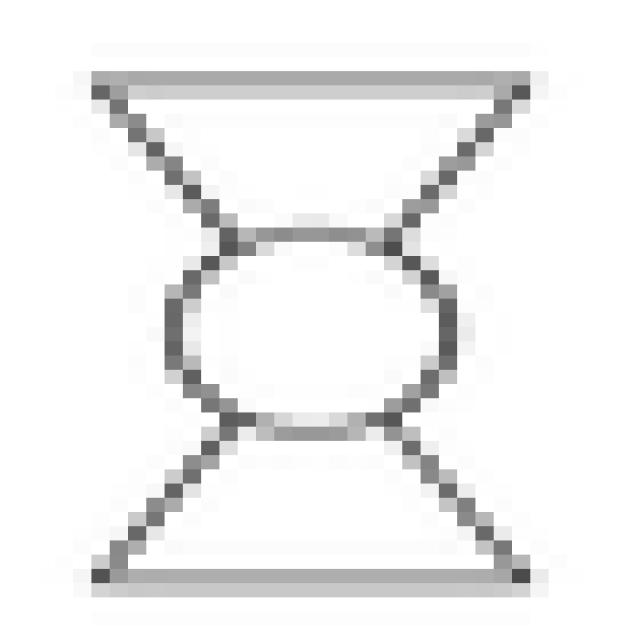ball valve: (89, 78, 542, 593)
